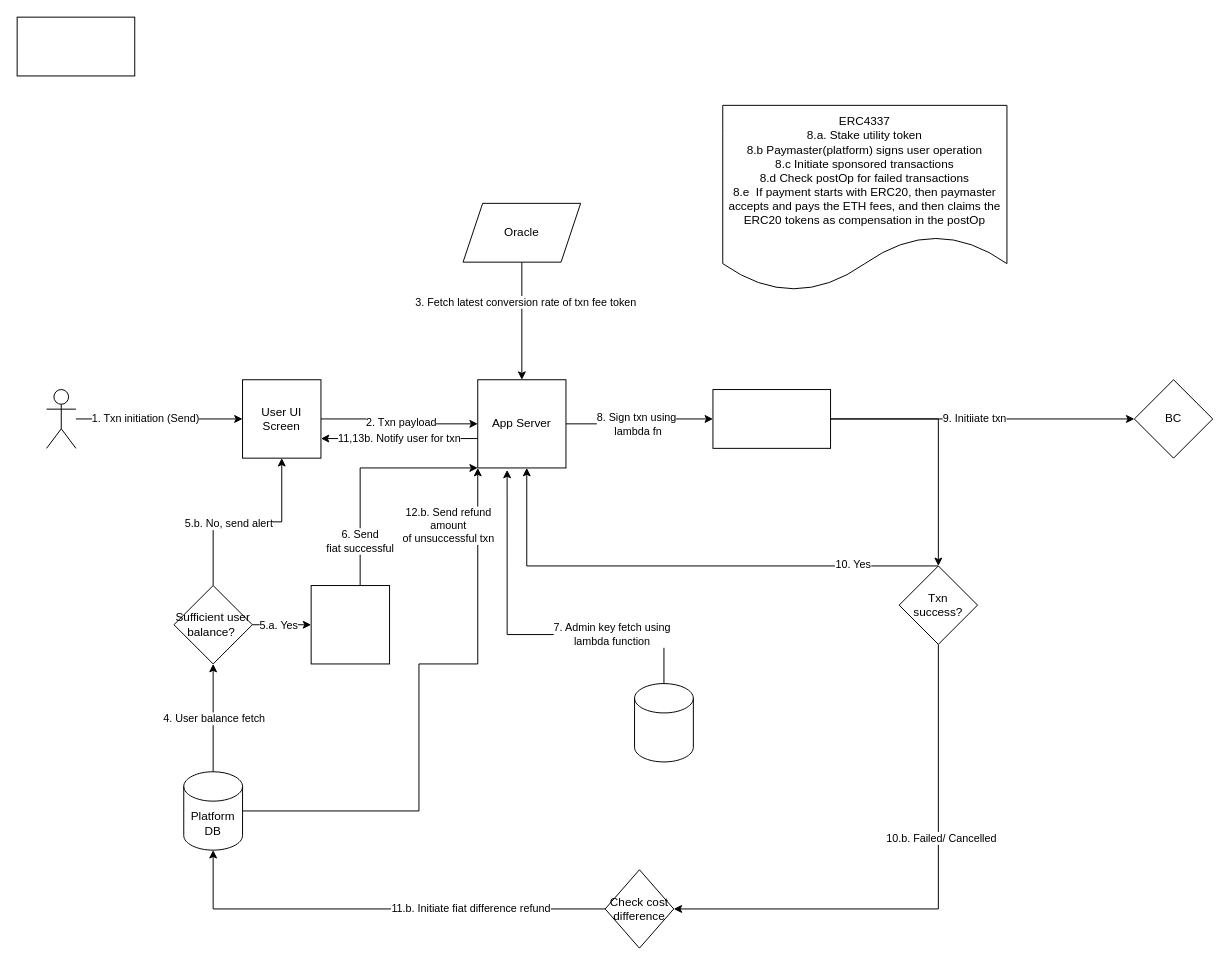
Image size: 1230x965. Some labels were removed from this diagram. The centre of each missing label's shape, as x and y in pixels:
Component Diagram: (x=75, y=46)
KMS: (x=663, y=722)
Send user fiat fee to admin wallet: (x=350, y=624)
Smart contract: (x=771, y=418)
User: (x=61, y=418)
